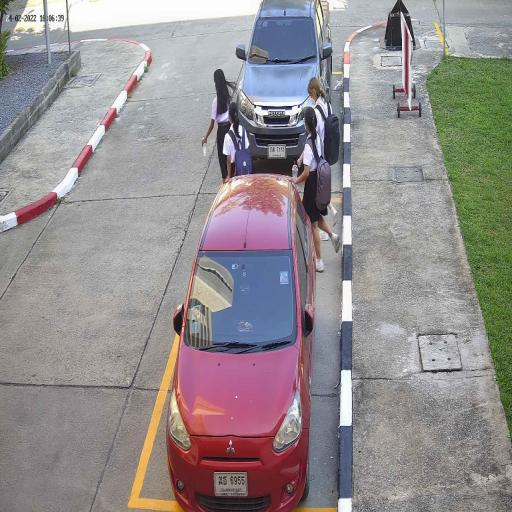car: (164, 171, 317, 512), (234, 0, 333, 172)
